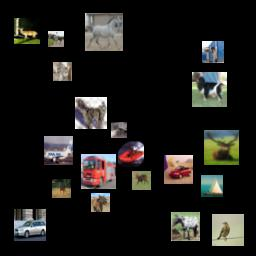airplane: (44, 136, 73, 165)
automobile: (14, 209, 46, 241), (164, 155, 193, 184)
bird: (212, 214, 244, 246)
cat: (75, 97, 107, 129), (53, 62, 72, 81), (111, 122, 127, 138)
deer: (204, 130, 239, 165), (14, 18, 40, 44), (132, 171, 151, 190), (52, 179, 71, 198)
dog: (192, 72, 227, 107)
ship: (118, 141, 144, 167), (201, 175, 223, 197)
truck: (81, 154, 116, 189), (202, 41, 224, 63)
